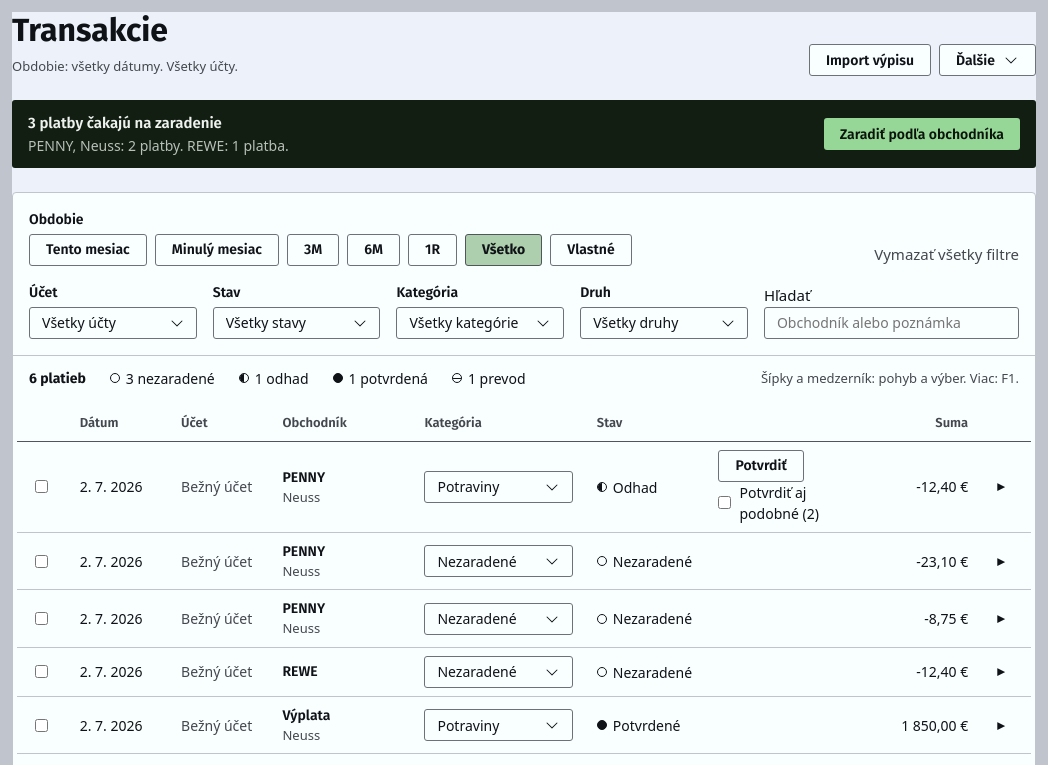
Transakcie in Kaliber r4 › names the chosen account
Check: the text "Výplata" is shown, box top-left (282, 707), bottom-right (330, 724)
Select "Osobný - Bežný účet" in the dropdown with id "f-acc": [113, 323] box top-left (29, 307), bottom-right (197, 339)
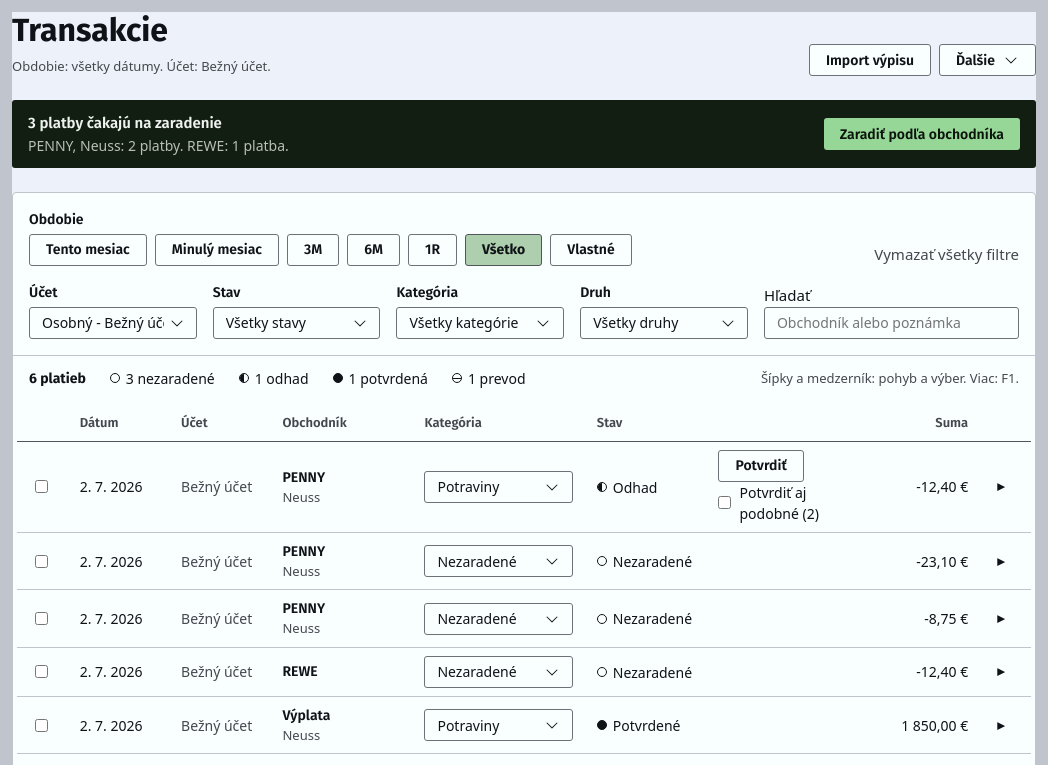
Check: the text with class "k-page-meta" shows "Účet: Bežný účet.", box top-left (12, 57), bottom-right (271, 75)
